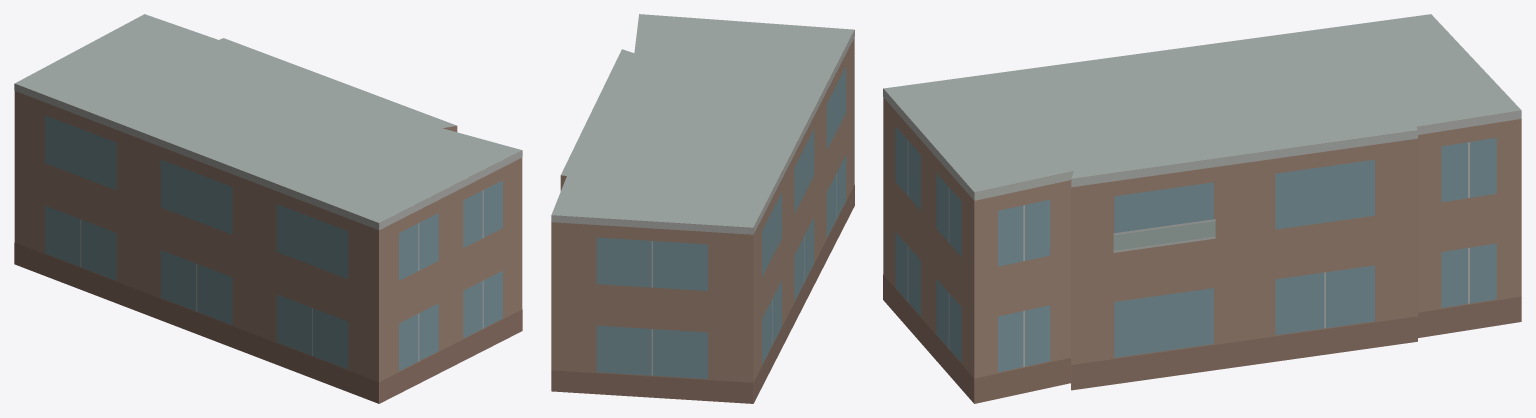
The model's file is survey-upis-32646700.glb.
3 renders of one model, left to right at view 1: azimuth 30°, elevation 25°; view 2: azimuth 150°, elevation 25°; view 3: azimuth 270°, elevation 25°, orthographic. The views are drawn at different scales.
Parts seen in each view (by area): view 1: survey-upis-32646700.tmp; view 2: survey-upis-32646700.tmp; view 3: survey-upis-32646700.tmp.
Boxes of the visible parts, x1,y1,x2,y2 form: survey-upis-32646700.tmp: [14, 14, 522, 403]; survey-upis-32646700.tmp: [551, 14, 854, 403]; survey-upis-32646700.tmp: [883, 14, 1521, 403].
Bounding box in the file's own units: 11.05 × 6.1 × 16.7.
